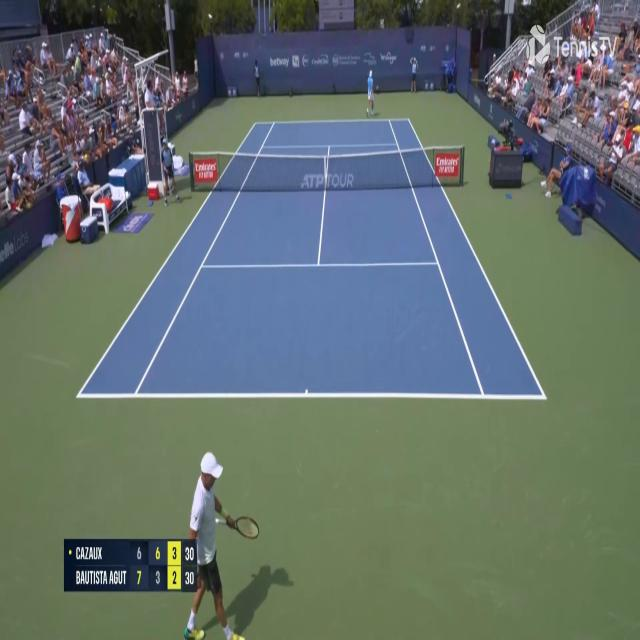tennis-player: (182, 445, 260, 639), (366, 67, 378, 118)
